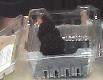berry: (40, 34, 64, 54), (38, 26, 59, 40)
